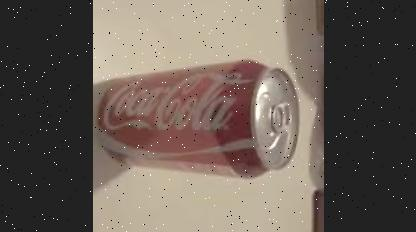Can: (99, 59, 298, 180)
